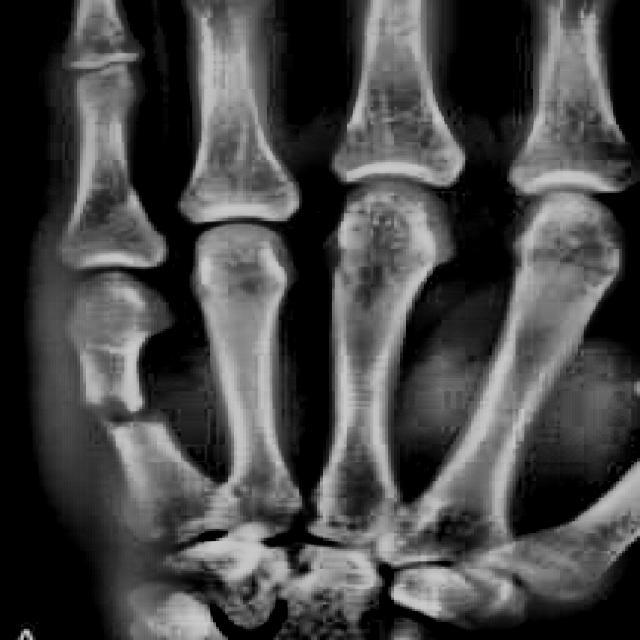fracture: (77, 394, 166, 436)
